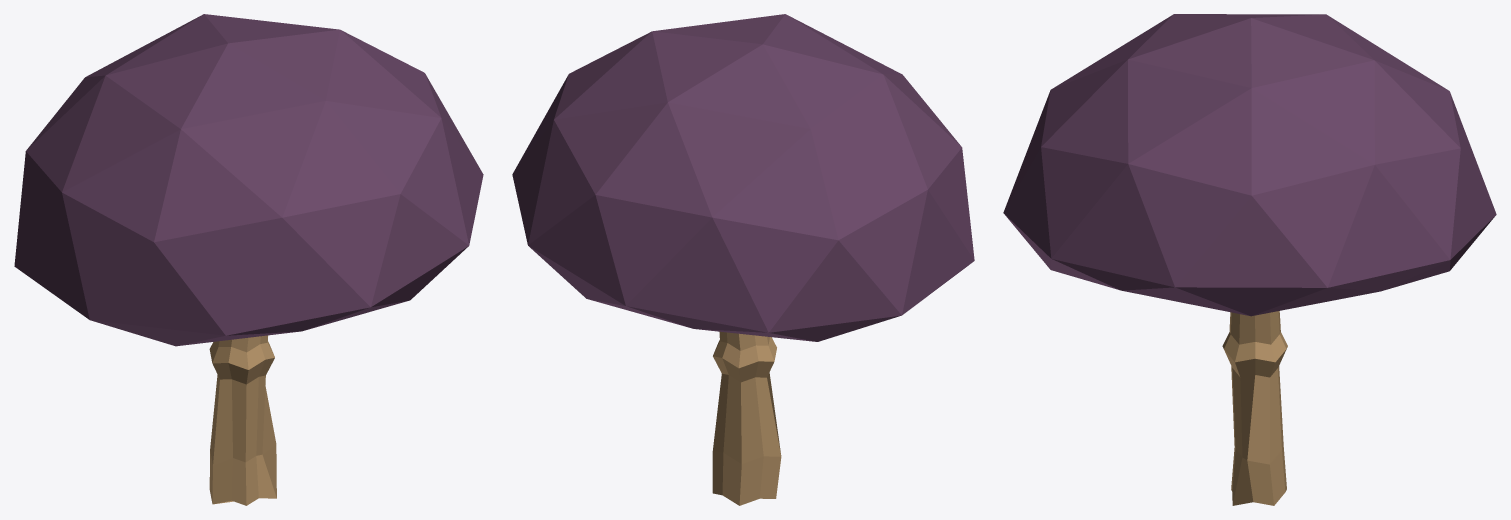
Rendered from mushroom5.fbx.
3 views of the same model, side by side, from view 1: azimuth 30°, elevation 25°; view 2: azimuth 150°, elevation 25°; view 3: azimuth 270°, elevation 25° (orthographic). The views are drawn at different scales.
Visible parts, largest first — view 1: Mushroom_5; view 2: Mushroom_5; view 3: Mushroom_5.
Boxes of the visible parts, <box> form: Mushroom_5: <box>14,14,483,505</box>; Mushroom_5: <box>512,14,974,505</box>; Mushroom_5: <box>1003,14,1496,505</box>.
Size of the model in its own units: 52.44 by 58.02 by 55.41.
